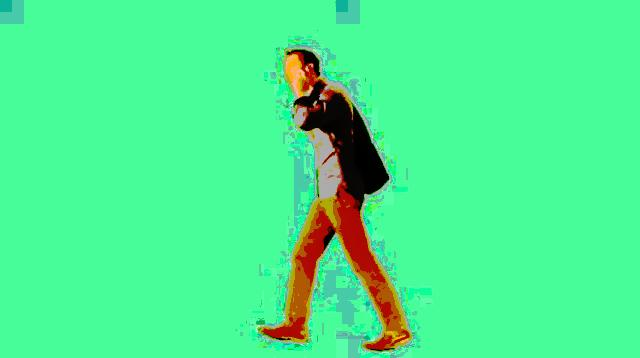berjalan: (255, 37, 412, 352)
